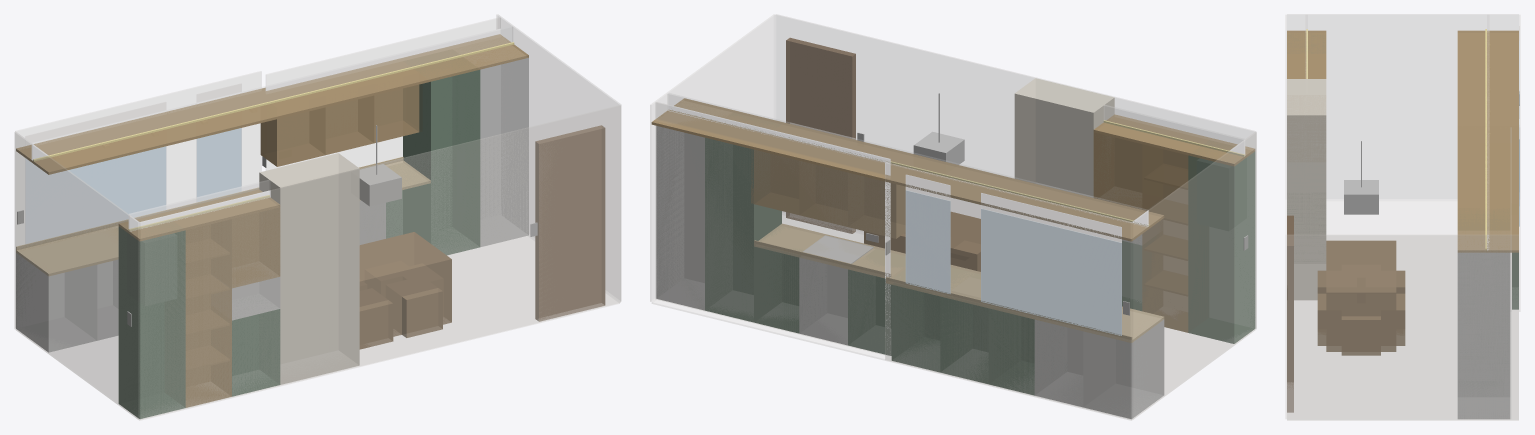
The model's file is cocina.obj.
The picture shows the model from 3 angles, left to right: view 1: azimuth 30°, elevation 25°; view 2: azimuth 150°, elevation 25°; view 3: azimuth 270°, elevation 25°; orthographic projection. The views are drawn at different scales.
Parts seen in each view (by area): view 1: Pared Sur, Pared Oeste, Columna azulejo, Cornisa Norte, Pared Norte izq, Puerta, Suelo, Caldera, Escobero, Pared Este, Ventana grande, Frigorífico (+25 smaller); view 2: Pared Norte izq, Pared Norte der, Pared Oeste, Pared Sur, Cornisa Norte, Ventana grande, Caldera, Escobero, Columna azulejo, Frigorífico, Nicho de techo Norte, Vitrina (+28 smaller); view 3: Pared Este, Pared Oeste, Suelo, Cornisa Norte, Frigorífico, Columna azulejo, Mesa comedor, Cornisa Sur, Silla 6, Puerta, Lámpara comedor, Pared Sur (+9 smaller).
Boxes of the visible parts, bbox=[...] form: Pared Sur: bbox=[140, 105, 620, 419]; Pared Oeste: bbox=[14, 132, 139, 419]; Columna azulejo: bbox=[259, 153, 359, 384]; Cornisa Norte: bbox=[16, 34, 528, 174]; Pared Norte izq: bbox=[15, 71, 261, 327]; Puerta: bbox=[535, 125, 605, 321]; Suelo: bbox=[16, 236, 619, 420]; Caldera: bbox=[118, 226, 185, 418]; Escobero: bbox=[403, 69, 480, 255]; Pared Este: bbox=[496, 14, 621, 301]; Ventana grande: bbox=[26, 146, 165, 243]; Frigorífico: bbox=[480, 57, 528, 246]; Pared Norte izq: bbox=[885, 162, 1131, 419]; Pared Norte der: bbox=[655, 102, 890, 354]; Pared Oeste: bbox=[1132, 132, 1256, 419]; Pared Sur: bbox=[775, 14, 1255, 232]; Cornisa Norte: bbox=[651, 98, 1164, 241]; Ventana grande: bbox=[981, 209, 1121, 335]; Caldera: bbox=[1188, 151, 1255, 343]; Escobero: bbox=[705, 137, 781, 322]; Columna azulejo: bbox=[1014, 78, 1114, 197]; Frigorífico: bbox=[656, 126, 704, 310]; Nicho de techo Norte: bbox=[667, 93, 1147, 226]; Vitrina: bbox=[1142, 144, 1188, 332]; Pared Este: bbox=[1287, 235, 1518, 419]; Pared Oeste: bbox=[1287, 14, 1518, 199]; Suelo: bbox=[1287, 200, 1518, 420]; Cornisa Norte: bbox=[1457, 30, 1518, 252]; Frigorífico: bbox=[1457, 252, 1510, 419]; Columna azulejo: bbox=[1287, 79, 1326, 300]; Mesa comedor: bbox=[1326, 240, 1396, 351]; Cornisa Sur: bbox=[1287, 30, 1326, 78]; Silla 6: bbox=[1341, 316, 1380, 355]; Puerta: bbox=[1287, 215, 1293, 412]; Lámpara comedor: bbox=[1344, 180, 1378, 214]; Pared Sur: bbox=[1285, 15, 1286, 418].
Bounding box in the file's own units: 5.98 × 2.35 × 2.69.
